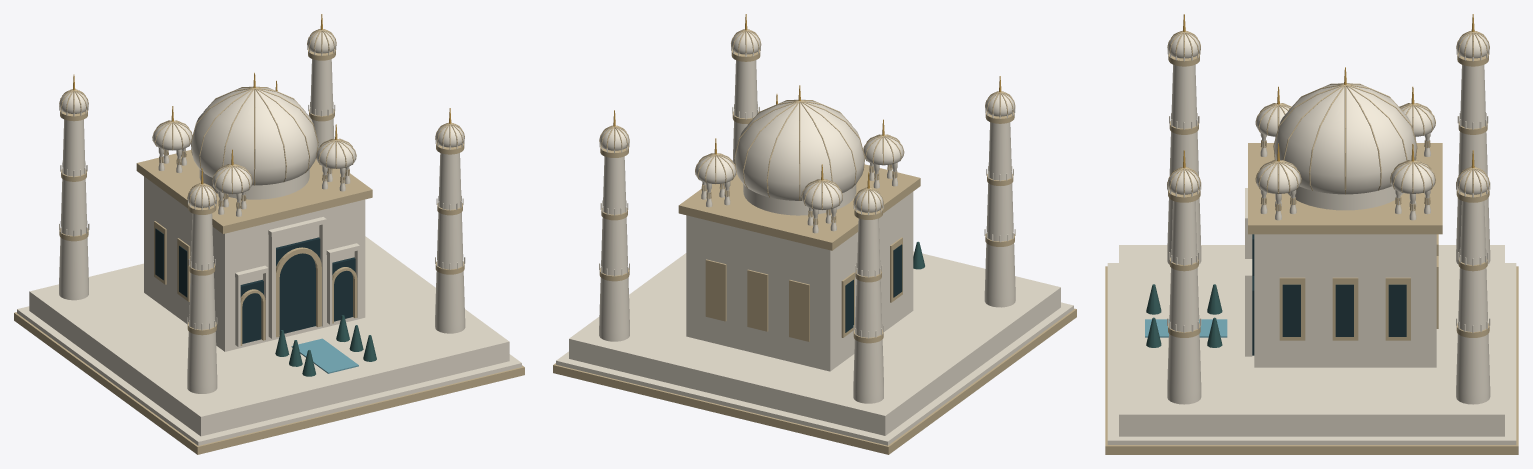
File: taj_mahal.glb
3 renders of one model, left to right at view 1: azimuth 30°, elevation 25°; view 2: azimuth 150°, elevation 25°; view 3: azimuth 270°, elevation 25°, orthographic. The views are drawn at different scales.
Visible parts, largest first — view 1: taj_mahal_ivory, taj_mahal_stone, taj_mahal_ink, taj_mahal_roof, taj_mahal_glass; view 2: taj_mahal_ivory, taj_mahal_stone, taj_mahal_ink; view 3: taj_mahal_ivory, taj_mahal_stone, taj_mahal_ink, taj_mahal_roof, taj_mahal_glass, taj_mahal_gold.
Boxes of the visible parts, left/top/right/bottom form: taj_mahal_ivory: left=17, top=31, right=521, bottom=445; taj_mahal_stone: left=14, top=29, right=524, bottom=454; taj_mahal_ink: left=155, top=228, right=355, bottom=343; taj_mahal_roof: left=275, top=315, right=376, bottom=376; taj_mahal_glass: left=291, top=338, right=358, bottom=373; taj_mahal_ivory: left=556, top=32, right=1073, bottom=445; taj_mahal_stone: left=553, top=29, right=1076, bottom=454; taj_mahal_ink: left=845, top=244, right=902, bottom=332; taj_mahal_ivory: left=1107, top=34, right=1516, bottom=444; taj_mahal_stone: left=1105, top=30, right=1518, bottom=454; taj_mahal_ink: left=1252, top=234, right=1406, bottom=355; taj_mahal_roof: left=1146, top=284, right=1222, bottom=347; taj_mahal_glass: left=1145, top=319, right=1227, bottom=337; taj_mahal_gold: left=1183, top=14, right=1474, bottom=168.
Bounding box in the file's own units: 7 × 5.4 × 6.8.
